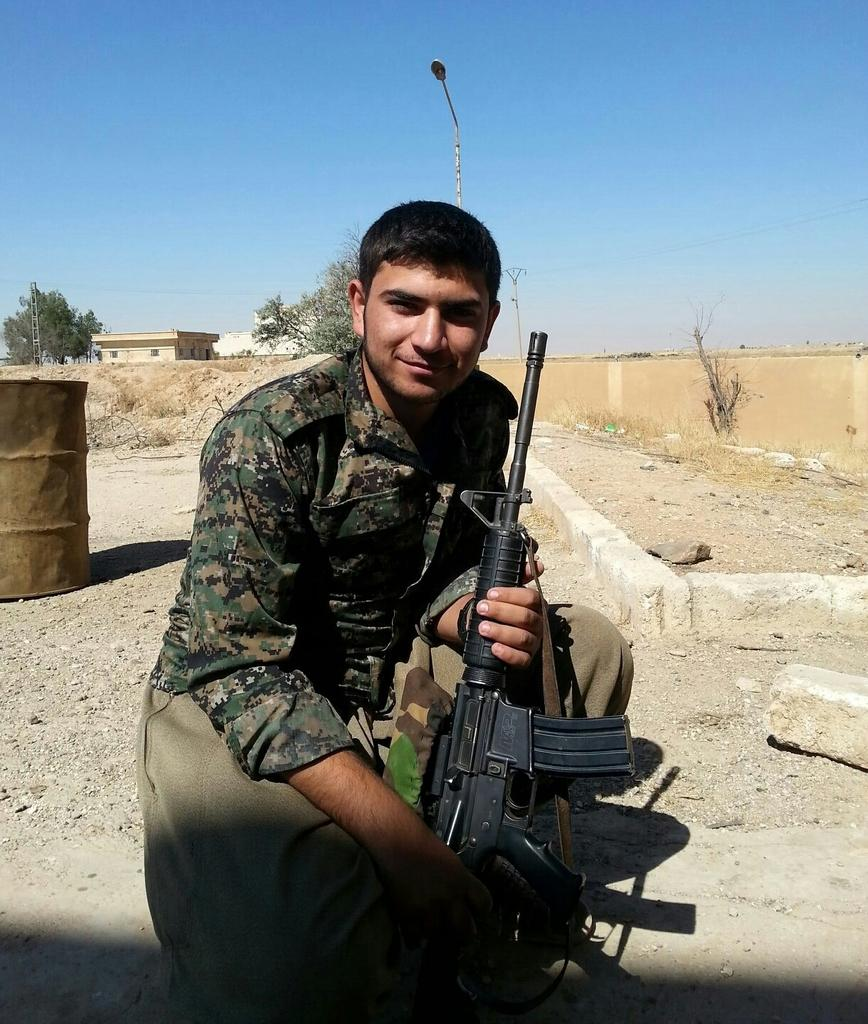Rifle: (420, 329, 637, 1023)
